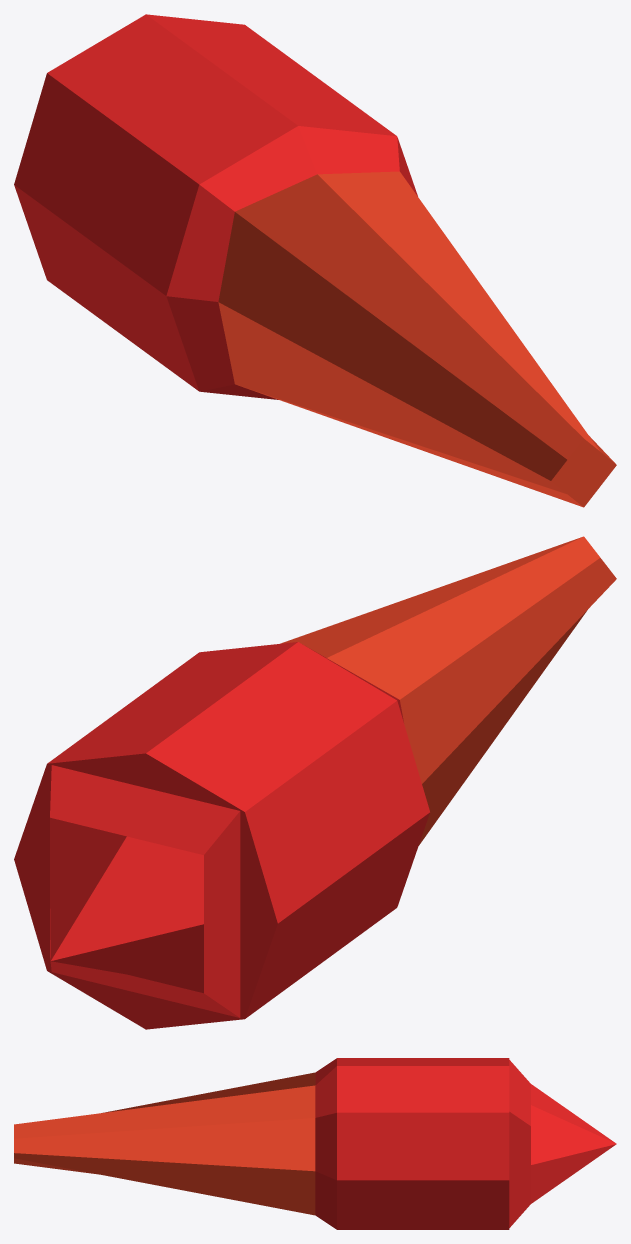
The model's file is fireball.gltf.
The picture shows the model from 3 angles, top to bottom: view 1: azimuth 30°, elevation 25°; view 2: azimuth 150°, elevation 25°; view 3: azimuth 270°, elevation 25°; orthographic projection. The views are drawn at different scales.
Parts seen in each view (by area): view 1: cuboid; view 2: cuboid; view 3: cuboid.
Boxes of the visible parts, left/top/right/bottom form: cuboid: left=14, top=14, right=616, bottom=507; cuboid: left=14, top=536, right=616, bottom=1029; cuboid: left=14, top=1058, right=616, bottom=1229.
Size of the model in its own units: 0.5 by 0.5 by 1.75.
Materials: 1 (1 with a texture image).
